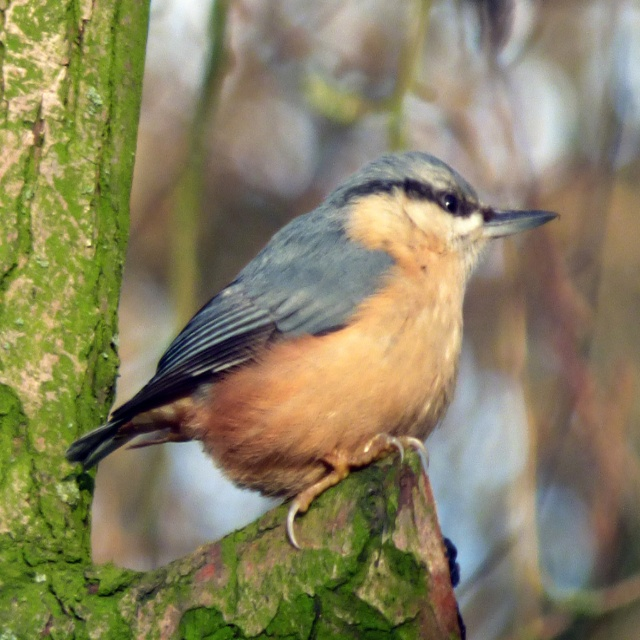Sparrow: (63, 151, 560, 554)
